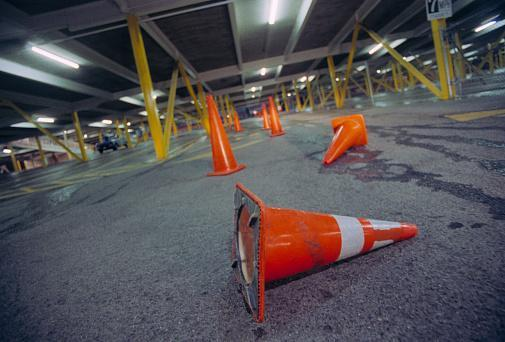Cone: (233, 182, 417, 318), (202, 93, 248, 179), (323, 114, 370, 169), (266, 95, 285, 138), (232, 106, 244, 132), (260, 103, 271, 129)
